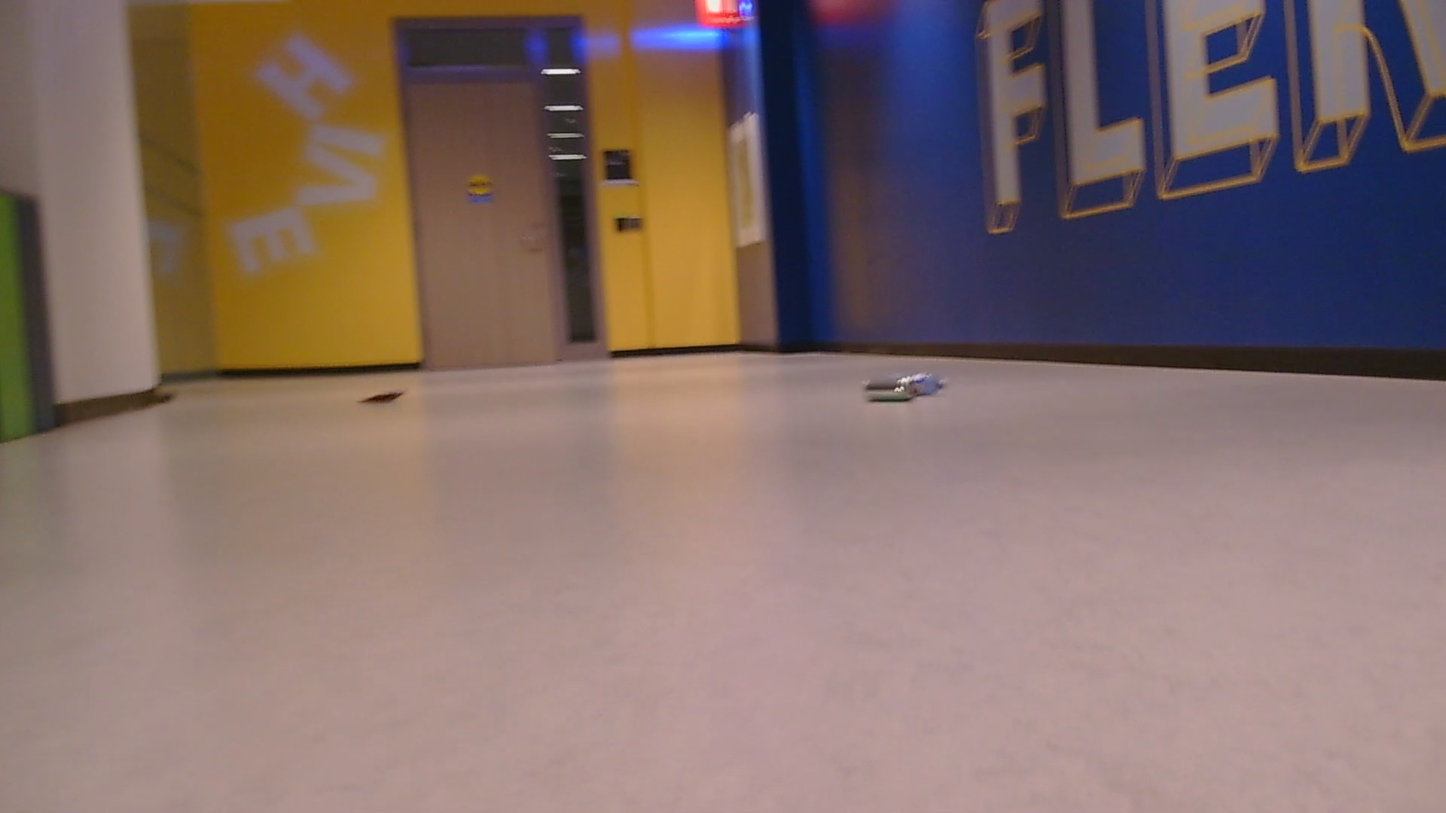can: (857, 354, 962, 404), (357, 380, 419, 403)
